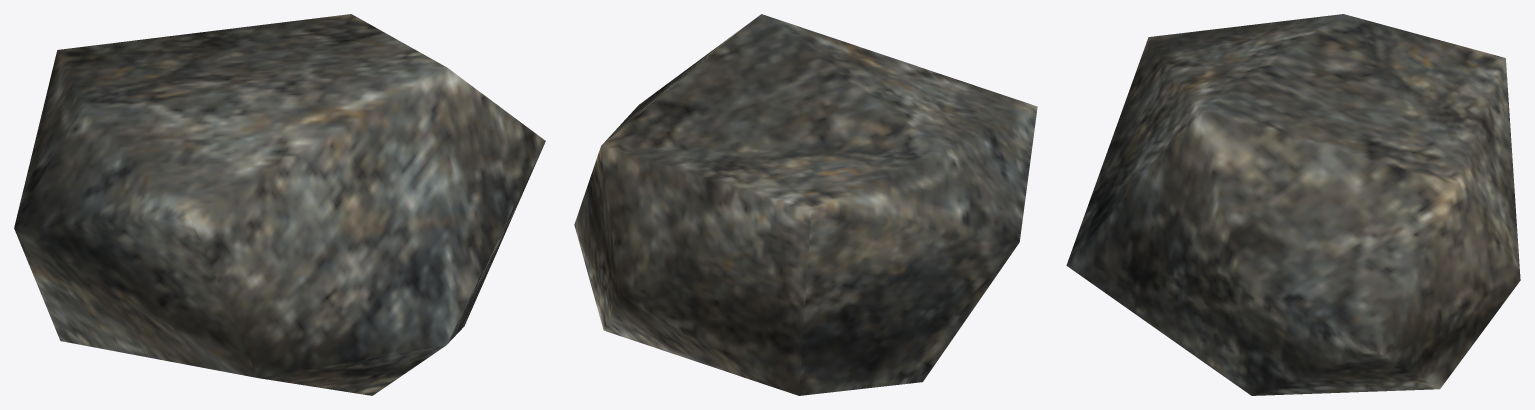
The model's file is SC_yonghengsenlin_shitou10.FBX.
The picture shows the model from 3 angles, left to right: view 1: azimuth 30°, elevation 25°; view 2: azimuth 150°, elevation 25°; view 3: azimuth 270°, elevation 25°; orthographic projection. The views are drawn at different scales.
Visible parts, largest first — view 1: SC_yonghengsenlin_shitou10; view 2: SC_yonghengsenlin_shitou10; view 3: SC_yonghengsenlin_shitou10.
Boxes of the visible parts, left/top/right/bottom form: SC_yonghengsenlin_shitou10: left=14, top=14, right=545, bottom=395; SC_yonghengsenlin_shitou10: left=574, top=14, right=1037, bottom=395; SC_yonghengsenlin_shitou10: left=1066, top=14, right=1520, bottom=395.
Bounding box in the file's own units: 391 × 231 × 348.
